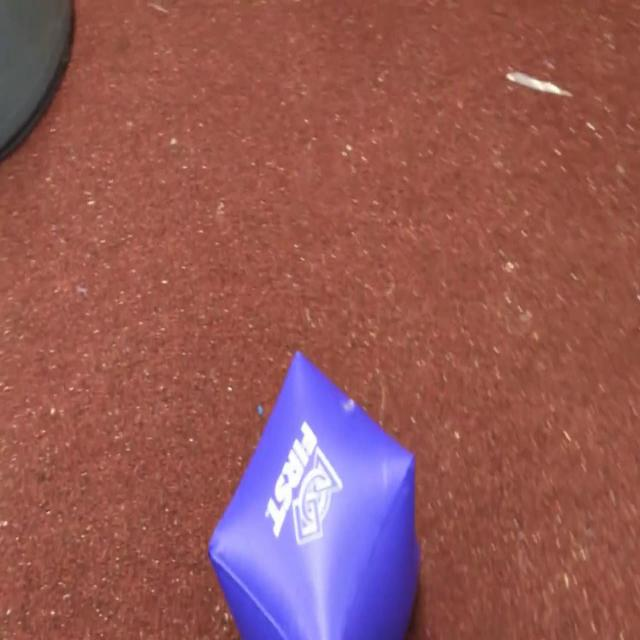frc_cube: (206, 350, 418, 640)
